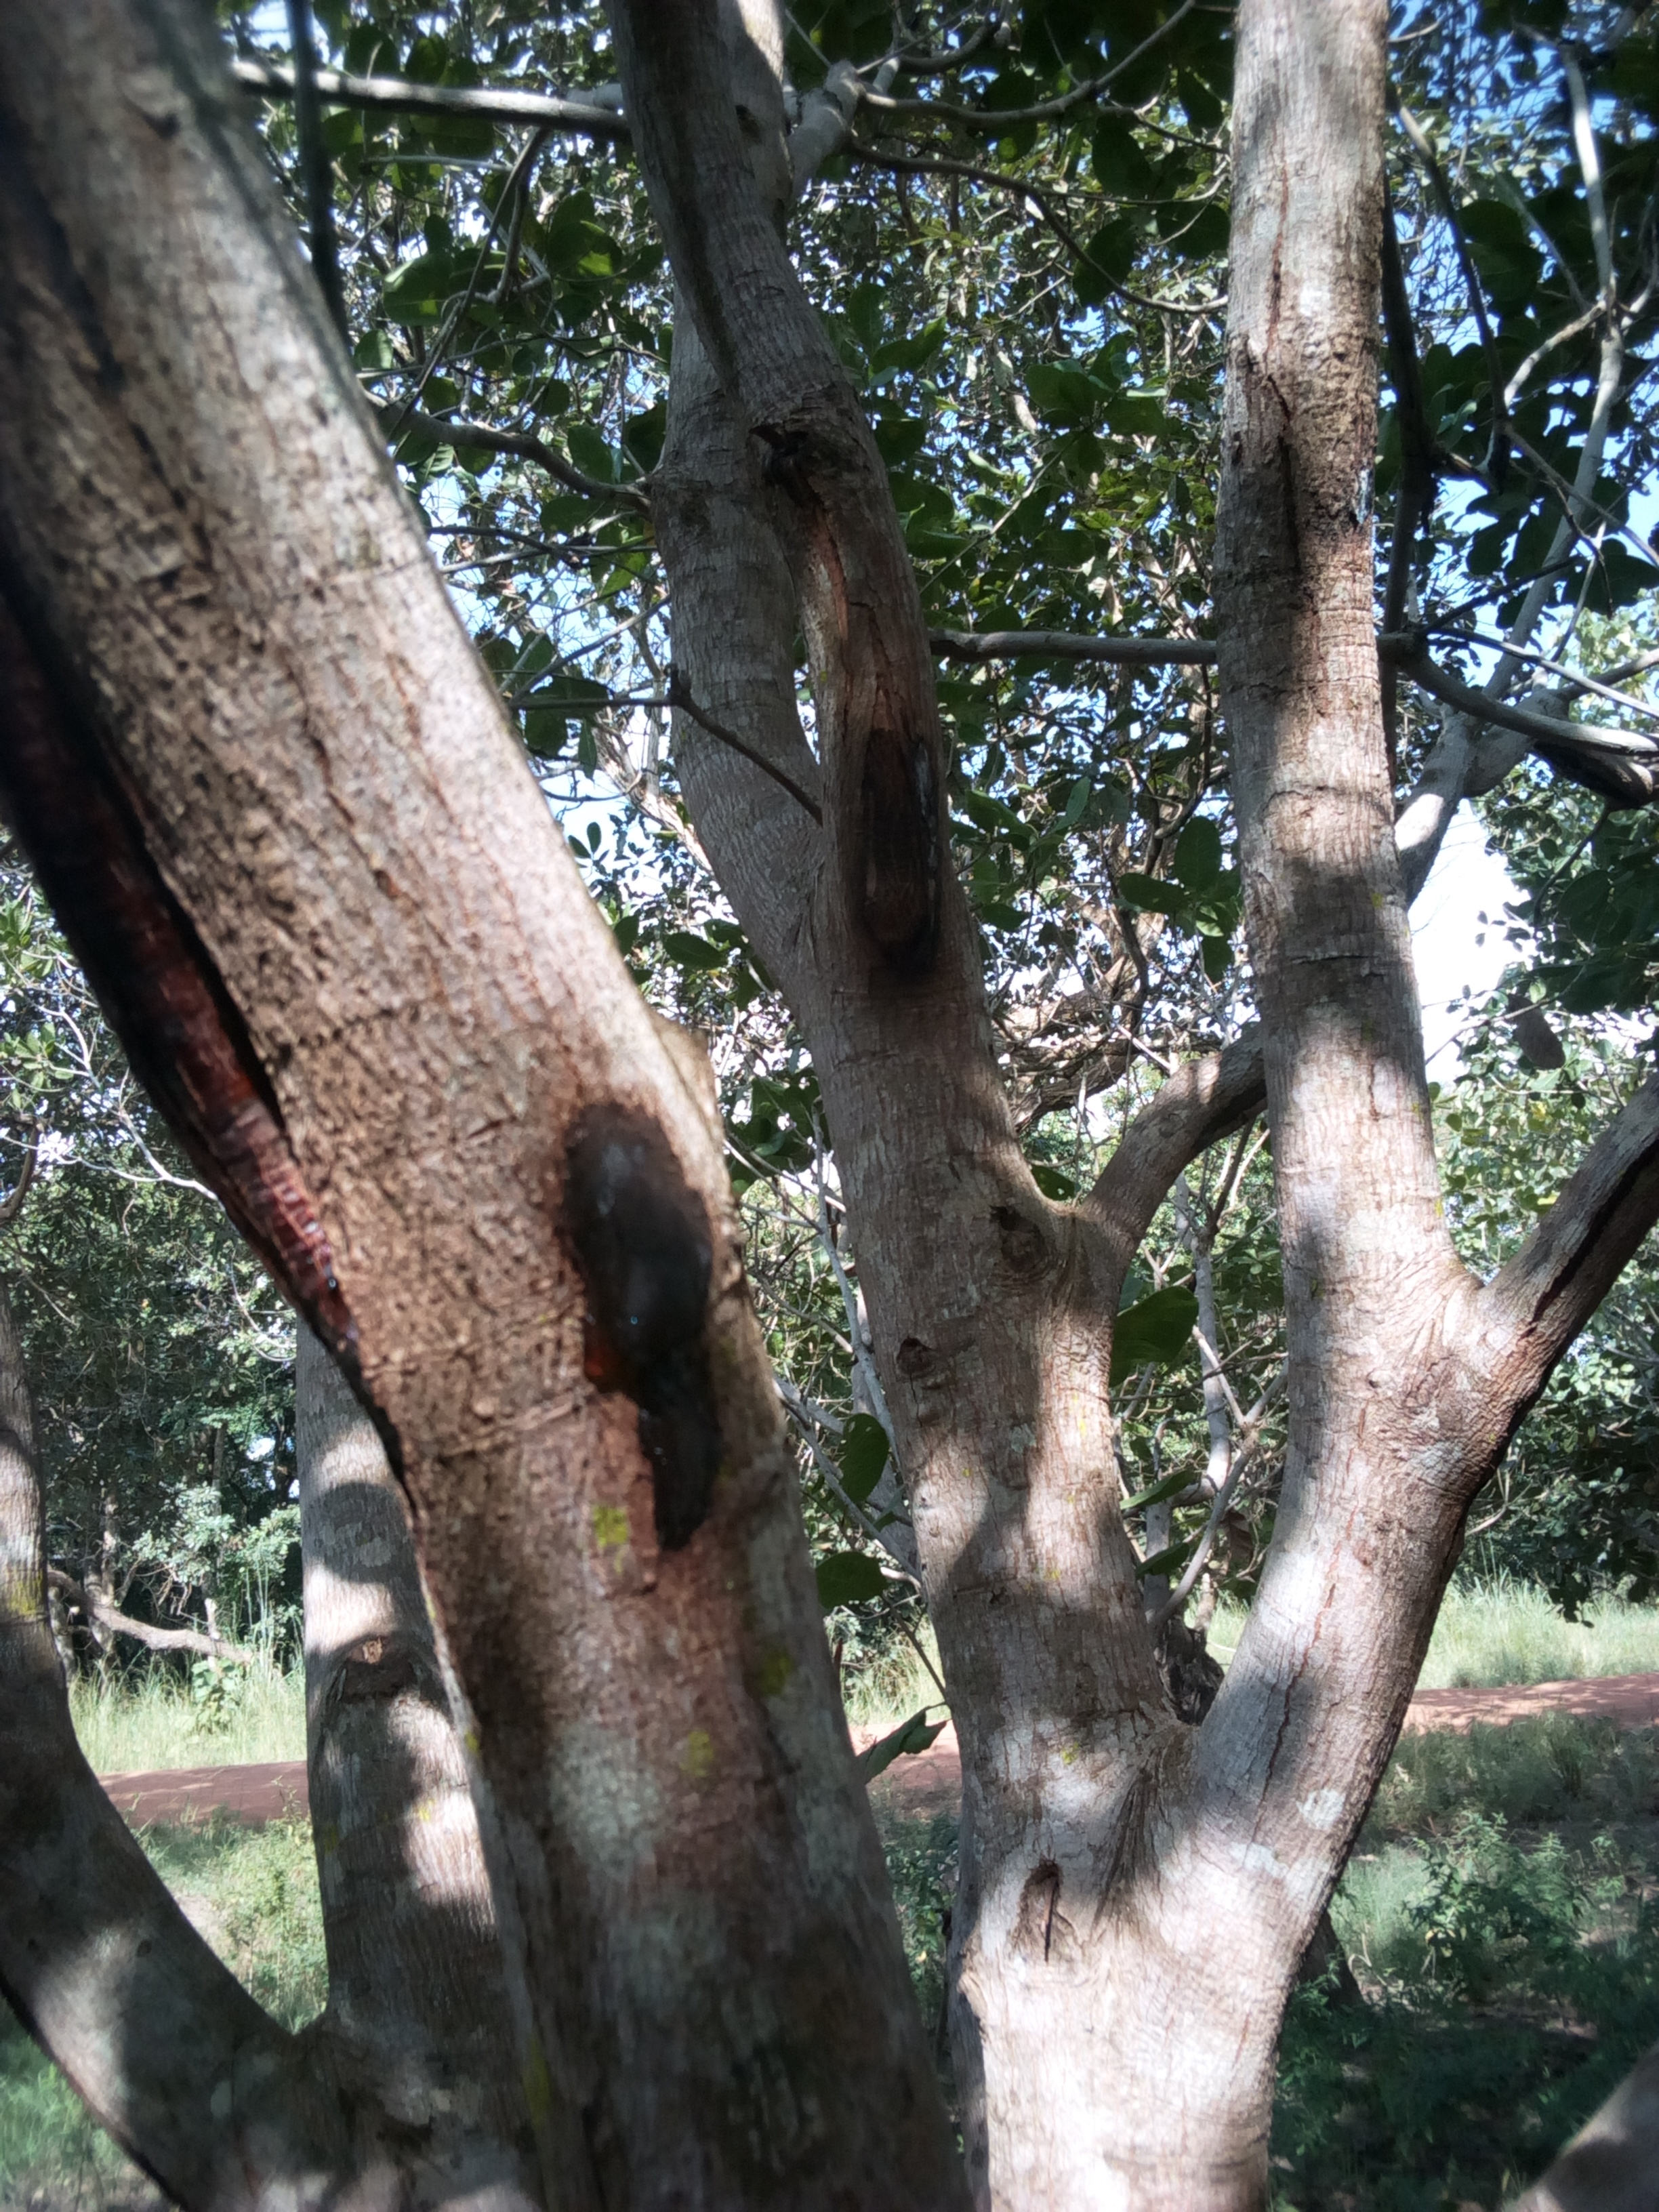Mecocorynus longiceps: (500, 1075, 779, 1634)
